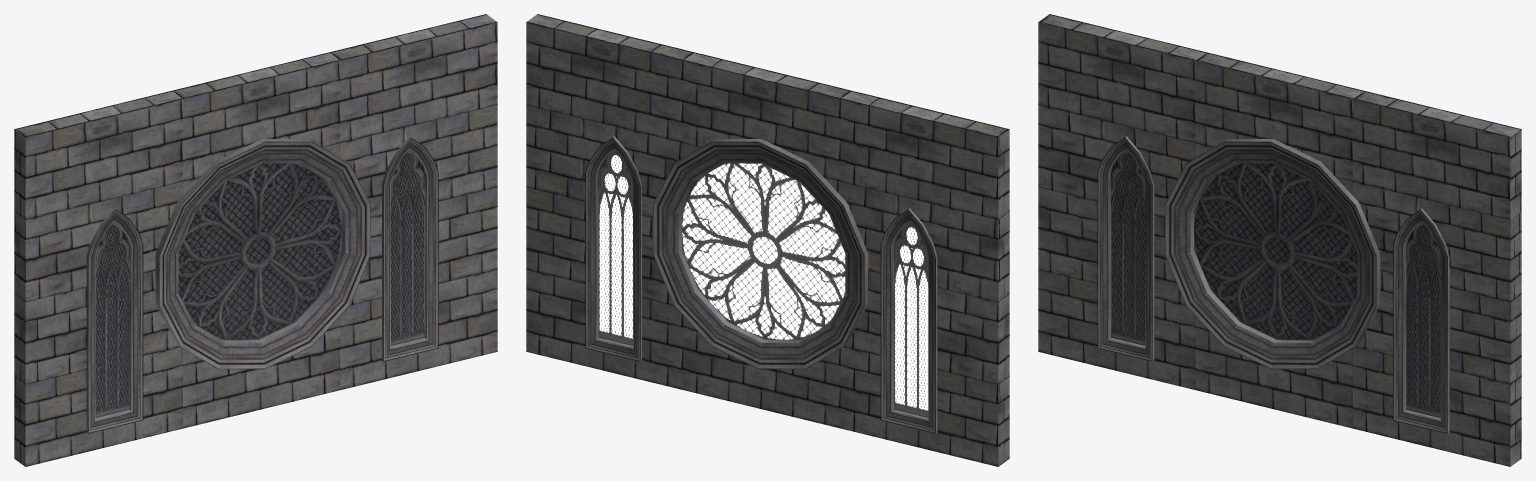
Rendered from facade_wall_01.fbx.
The picture shows the model from 3 angles, left to right: view 1: azimuth 30°, elevation 25°; view 2: azimuth 150°, elevation 25°; view 3: azimuth 330°, elevation 25°; orthographic projection.
Parts seen in each view (by area): view 1: facade_wall_01; view 2: facade_wall_01; view 3: facade_wall_01.
Boxes of the visible parts, bbox=[...] form: facade_wall_01: bbox=[14, 14, 497, 466]; facade_wall_01: bbox=[526, 14, 1009, 466]; facade_wall_01: bbox=[1038, 14, 1521, 466].
Size of the model in its own units: 2400 by 1600 by 162.
